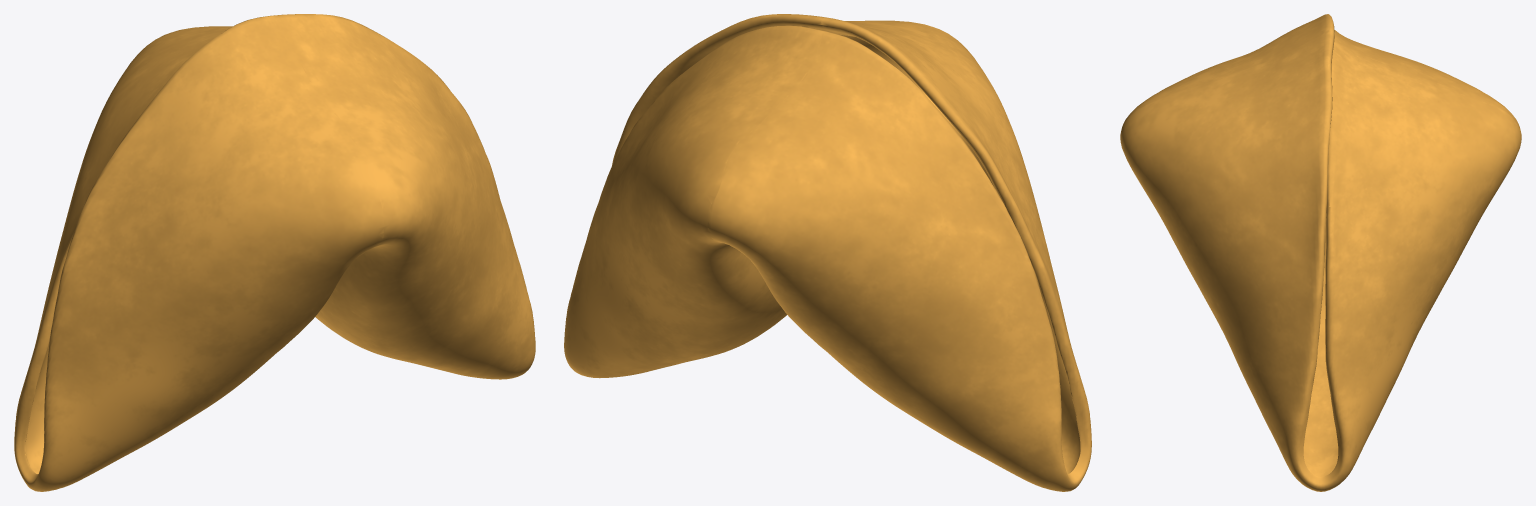
The model's file is cookie.glb.
3 renders of one model, left to right at view 1: azimuth 30°, elevation 25°; view 2: azimuth 150°, elevation 25°; view 3: azimuth 270°, elevation 25°, orthographic. The views are drawn at different scales.
Parts seen in each view (by area): view 1: uvlayout1; view 2: uvlayout1; view 3: uvlayout1.
Boxes of the visible parts, bbox=[...] form: uvlayout1: bbox=[14, 14, 535, 491]; uvlayout1: bbox=[564, 14, 1091, 491]; uvlayout1: bbox=[1120, 14, 1521, 491].
Size of the model in its own units: 0.9721 by 0.7762 by 0.7847.
Materials: 1 (1 with a texture image).
